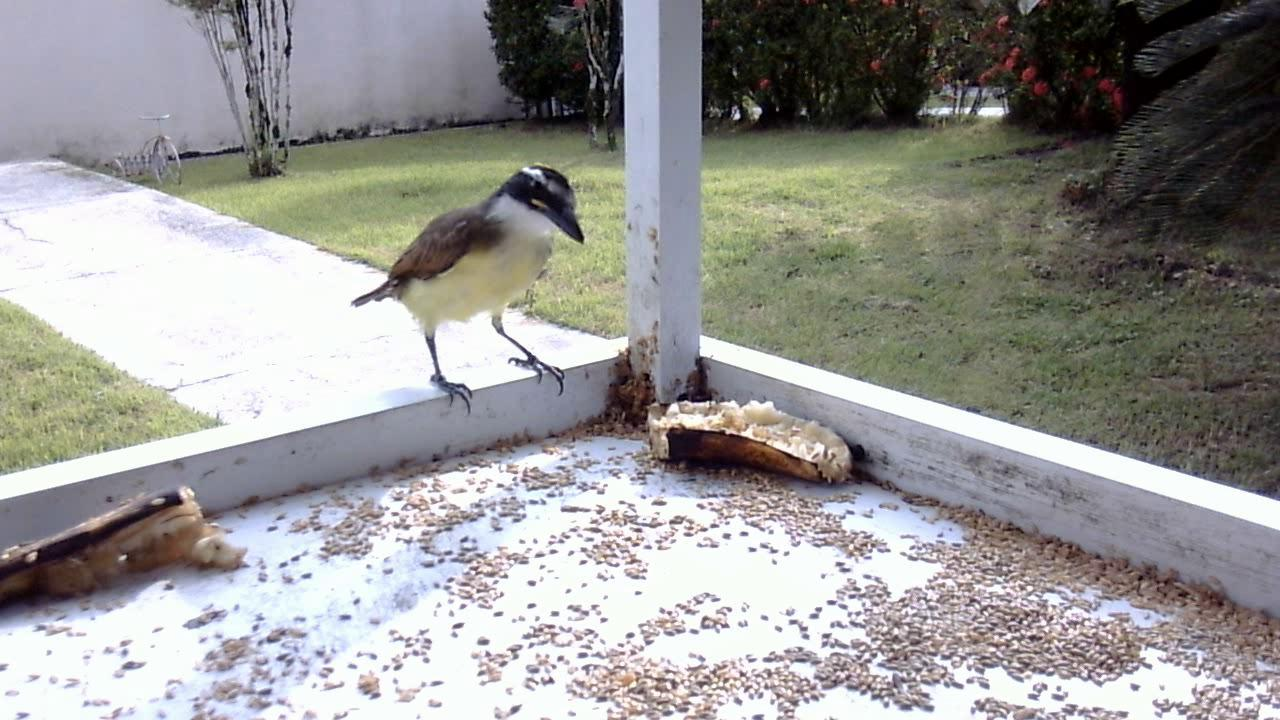bem_te_vi: (337, 151, 587, 428)
